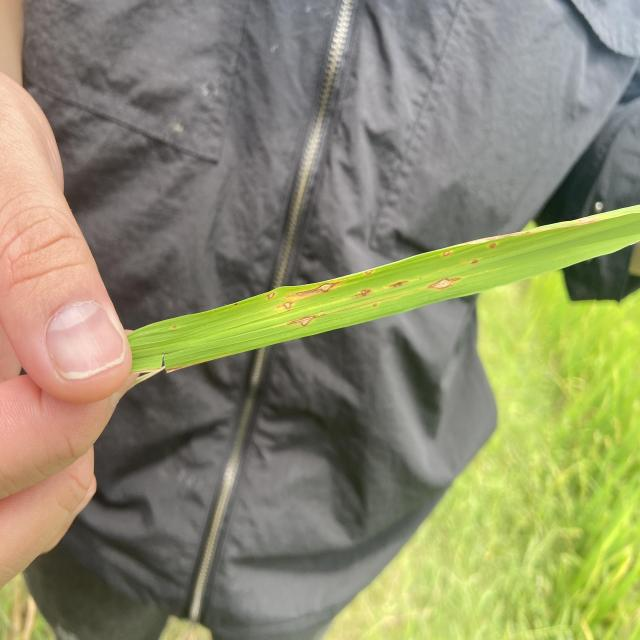Dao on: (286, 279, 350, 298), (284, 314, 326, 327), (427, 277, 462, 290), (276, 301, 295, 310), (361, 288, 371, 297), (266, 292, 276, 300), (442, 250, 450, 257), (365, 269, 374, 275), (489, 243, 497, 248), (173, 325, 176, 329)
